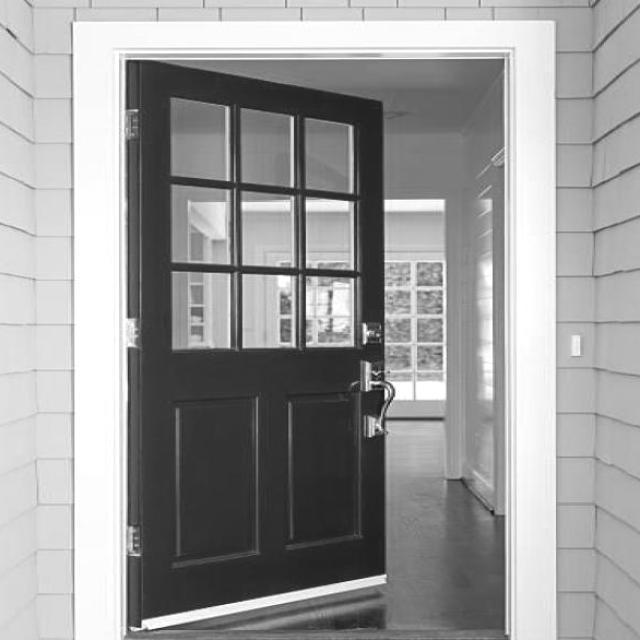door: (124, 58, 391, 630)
